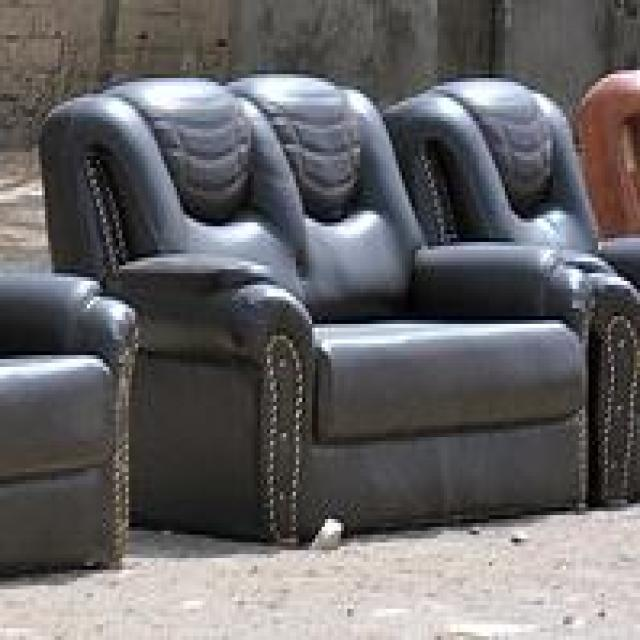sofa: (41, 70, 597, 552)
